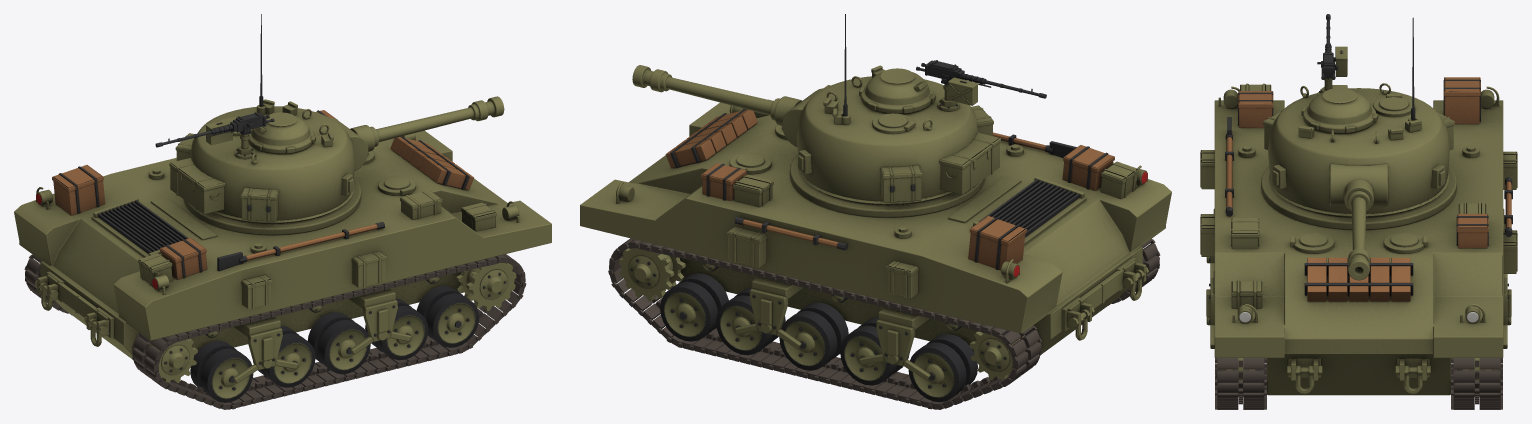
Rendered from sherman_pre_antenna_rig.glb.
The picture shows the model from 3 angles, left to right: view 1: azimuth 30°, elevation 25°; view 2: azimuth 150°, elevation 25°; view 3: azimuth 270°, elevation 25°; orthographic projection. The views are drawn at different scales.
Parts seen in each view (by area): view 1: Hull_Body, Hull_Details, Turret_Body, Turret_Details, Suspension_R, RoadWheel_R_0, RoadWheel_R_4, RoadWheel_R_2, Sprocket_R, Gun_Barrel, RoadWheel_R_3, RoadWheel_R_1 (+3 smaller); view 2: Hull_Body, Hull_Details, Turret_Body, Turret_Details, Suspension_L, RoadWheel_L_0, RoadWheel_L_4, RoadWheel_L_2, Sprocket_L, Gun_Barrel, RoadWheel_L_3, RoadWheel_L_1 (+3 smaller); view 3: Hull_Body, Hull_Details, Turret_Body, Turret_Details, Gun_Mantlet, Gun_Barrel, MG50, Suspension_R, TrackLink_L_040, TrackLink_R_040, Suspension_L, TrackLink_L_041 (+5 smaller).
Part boxes in pixels (left/top/right/bottom): Hull_Body: left=14, top=130, right=551, bottom=359; Hull_Details: left=35, top=110, right=519, bottom=346; Turret_Body: left=183, top=106, right=361, bottom=235; Turret_Details: left=169, top=14, right=354, bottom=223; Suspension_R: left=233, top=288, right=410, bottom=383; RoadWheel_R_0: left=416, top=285, right=479, bottom=347; RoadWheel_R_4: left=190, top=341, right=253, bottom=402; RoadWheel_R_2: left=307, top=312, right=370, bottom=374; Sprocket_R: left=456, top=263, right=516, bottom=310; Gun_Barrel: left=376, top=96, right=504, bottom=141; RoadWheel_R_3: left=253, top=325, right=315, bottom=387; RoadWheel_R_1: left=365, top=298, right=428, bottom=360; Hull_Body: left=580, top=102, right=1171, bottom=353; Hull_Details: left=616, top=85, right=1148, bottom=340; Turret_Body: left=789, top=76, right=985, bottom=217; Turret_Details: left=797, top=14, right=1000, bottom=204; Suspension_L: left=735, top=276, right=930, bottom=380; RoadWheel_L_0: left=660, top=273, right=728, bottom=341; RoadWheel_L_4: left=908, top=334, right=977, bottom=402; RoadWheel_L_2: left=779, top=302, right=848, bottom=370; Sprocket_L: left=619, top=248, right=685, bottom=301; Gun_Barrel: left=632, top=65, right=773, bottom=115; RoadWheel_L_3: left=840, top=317, right=908, bottom=385; RoadWheel_L_1: left=716, top=287, right=785, bottom=355; Hull_Body: left=1214, top=100, right=1503, bottom=395; Hull_Details: left=1200, top=77, right=1517, bottom=393; Turret_Body: left=1261, top=88, right=1456, bottom=229; Turret_Details: left=1263, top=17, right=1454, bottom=216; Gun_Mantlet: left=1330, top=163, right=1387, bottom=211; Gun_Barrel: left=1348, top=197, right=1369, bottom=280; MG50: left=1317, top=14, right=1347, bottom=79; Suspension_R: left=1206, top=208, right=1214, bottom=348; TrackLink_L_040: left=1451, top=367, right=1502, bottom=382; TrackLink_R_040: left=1215, top=367, right=1266, bottom=382; Suspension_L: left=1503, top=208, right=1511, bottom=348; TrackLink_L_041: left=1451, top=358, right=1502, bottom=369.
Size of the model in its own units: 6.27 by 4.17 by 3.62.
7 materials, 7 textured.
